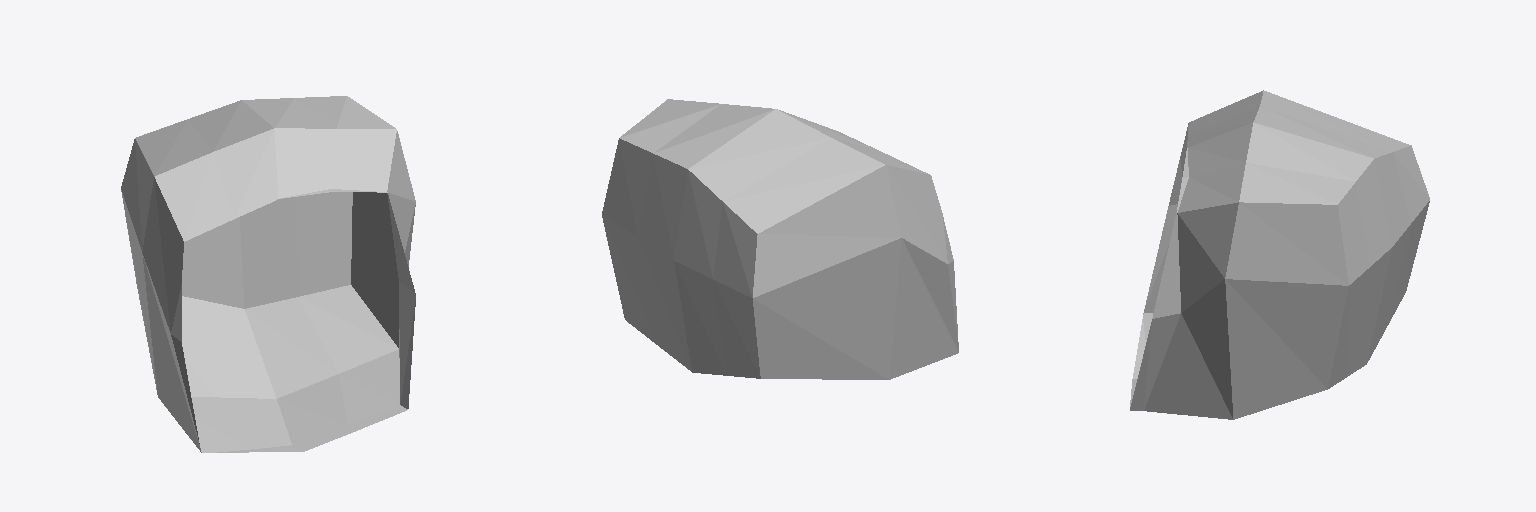
File: Shoulder.obj
3 views of the same model, side by side, from view 1: azimuth 30°, elevation 25°; view 2: azimuth 150°, elevation 25°; view 3: azimuth 270°, elevation 25° (orthographic).
Parts seen in each view (by area): view 1: Cube; view 2: Cube; view 3: Cube.
Boxes of the visible parts, box(x1,y1,x2,y2) form: Cube: box(121, 96, 415, 452); Cube: box(602, 99, 958, 379); Cube: box(1130, 90, 1429, 419).
Bounding box in the file's own units: 1.76 × 1.73 × 1.73.